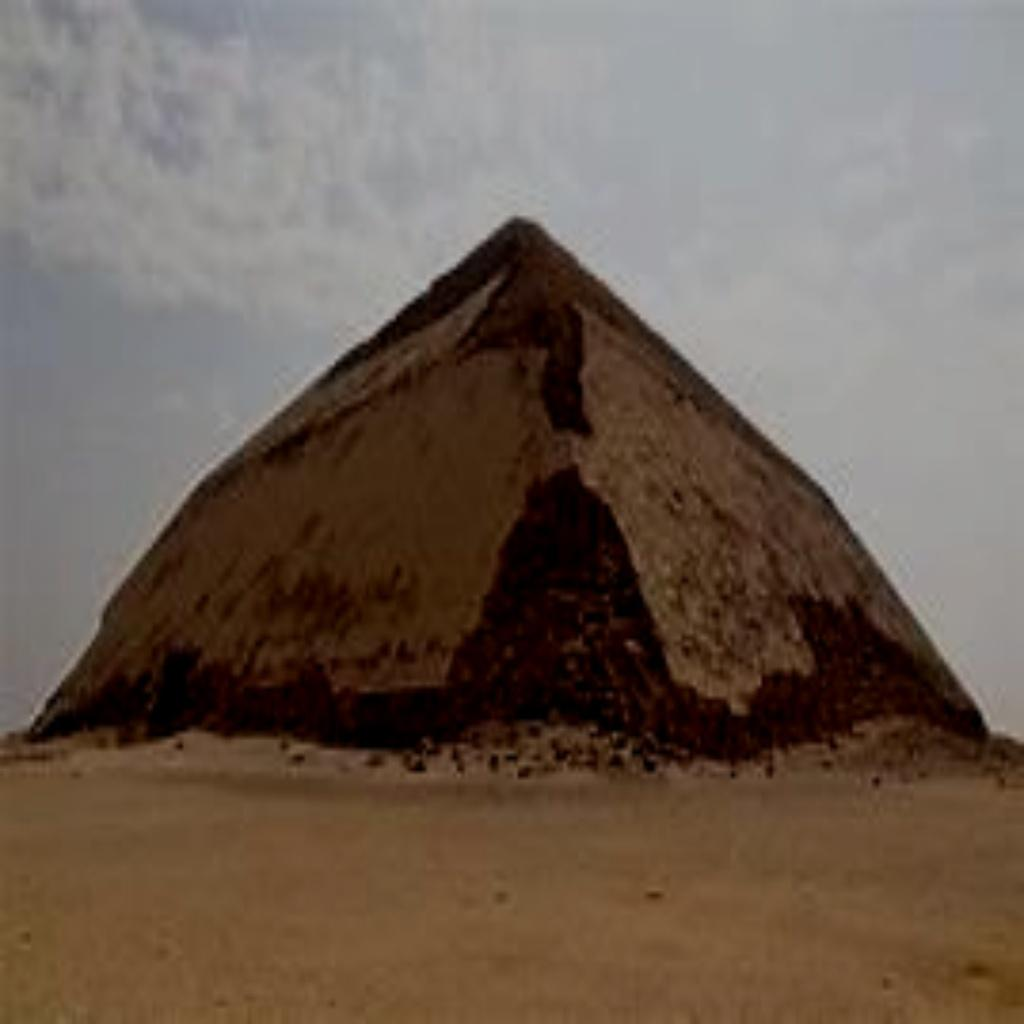Bent Pyramid of King Sneferu: (23, 206, 990, 761)
